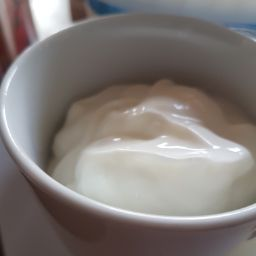Yogurt: (58, 73, 256, 212), (107, 97, 256, 174)
